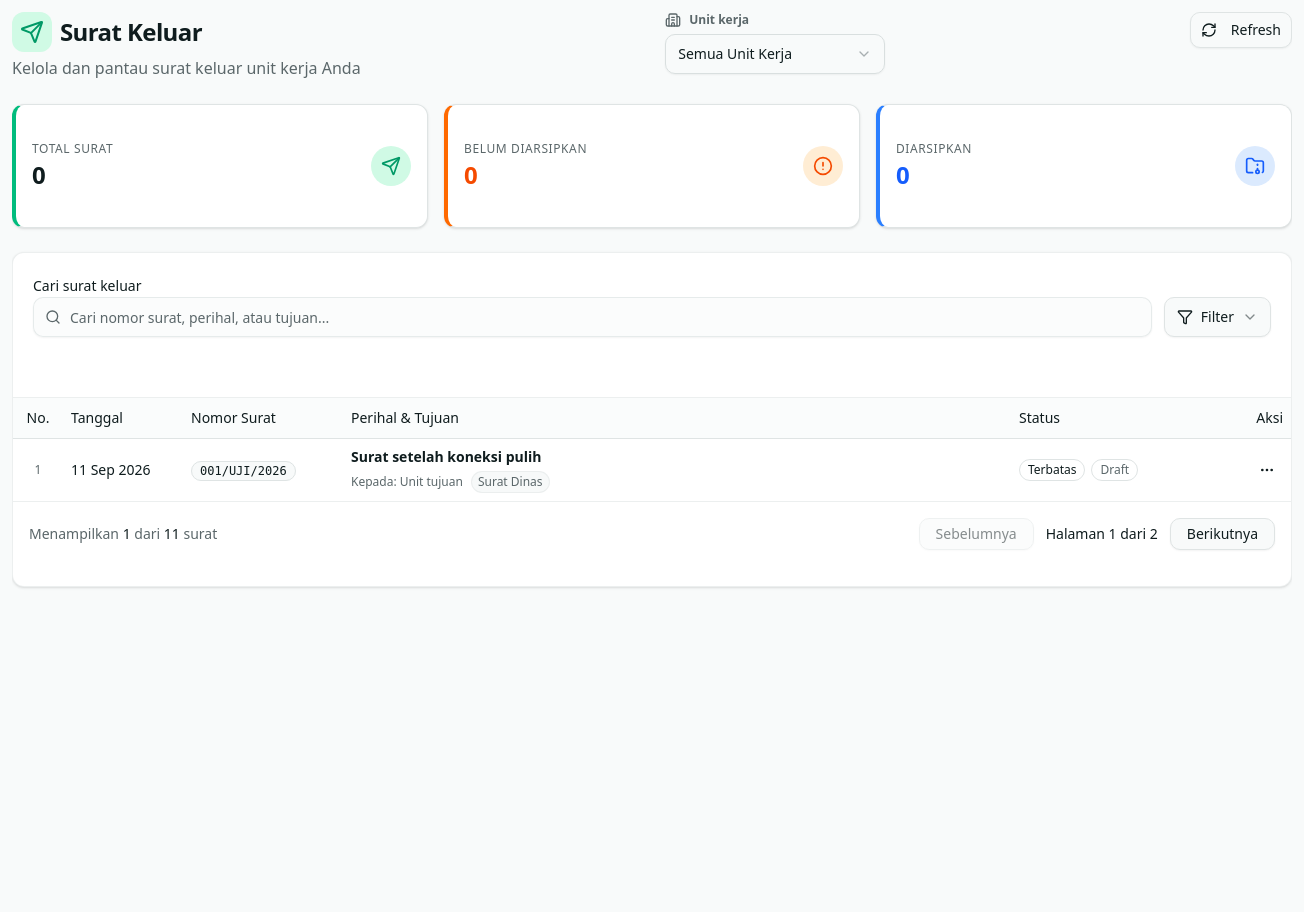
persistent keluar list feedback › hides old rows and pagination after refresh fails, then shows a successful empty result
This screenshot has width=1304, height=912.
Expected: the text "Surat setelah koneksi pulih" is shown, left=351, top=446, right=542, bottom=466
Step 1. Click the button "Refresh" → [1241, 30], box left=1190, top=12, right=1292, bottom=48
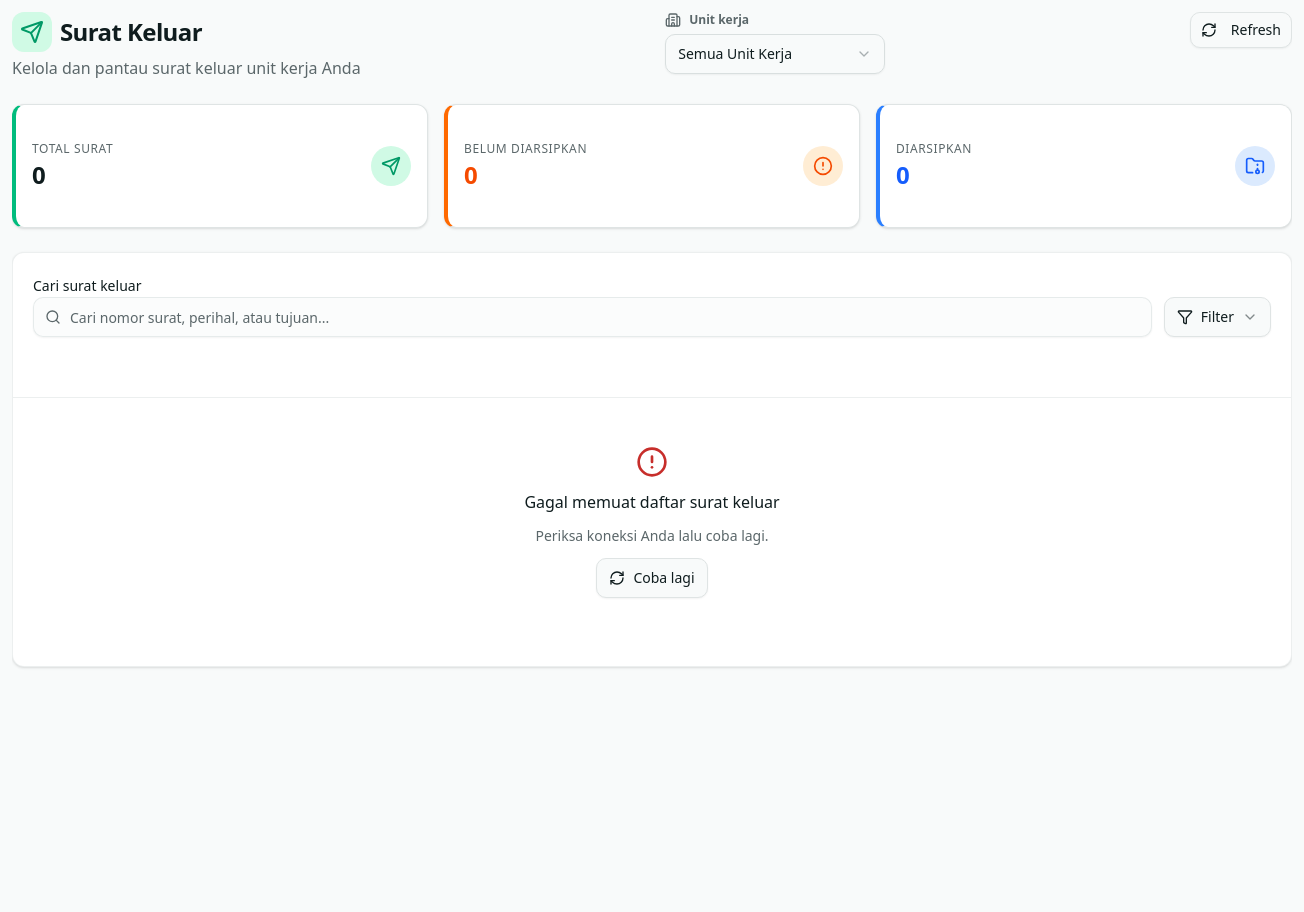
Expected: the message is shown, left=524, top=446, right=780, bottom=598
Expected: the text "Surat setelah koneksi pulih" is gone
Expected: the navigation bar "pagination" is gone
Step 2. Click the button "Coba lagi" → [652, 578], box left=596, top=558, right=708, bottom=598
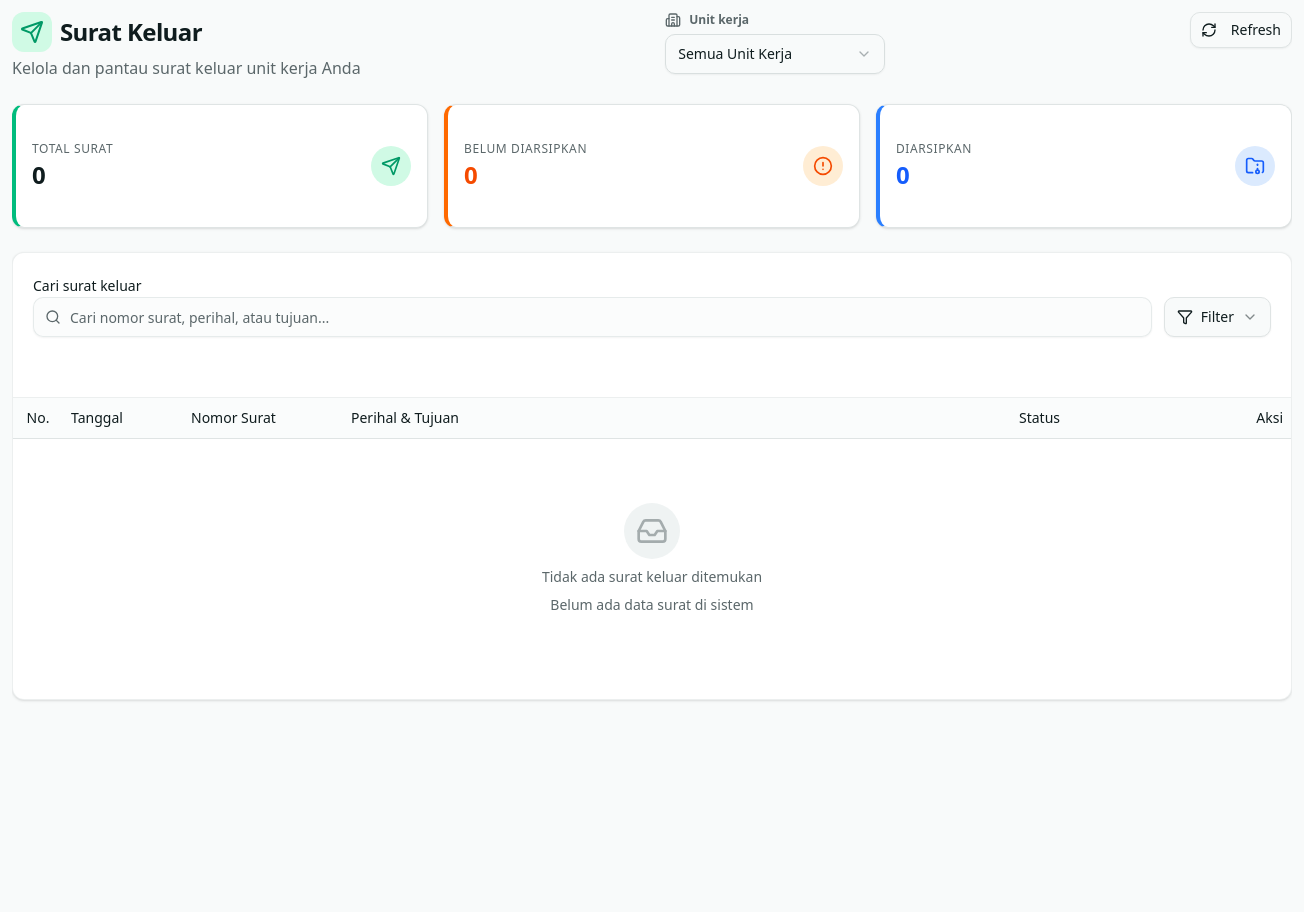
Expected: the text "Tidak ada surat keluar ditemukan" is shown, left=542, top=566, right=762, bottom=586
Expected: the message "Gagal memuat daftar surat keluar Periksa koneksi Anda lalu coba lagi. Coba lagi" is gone
